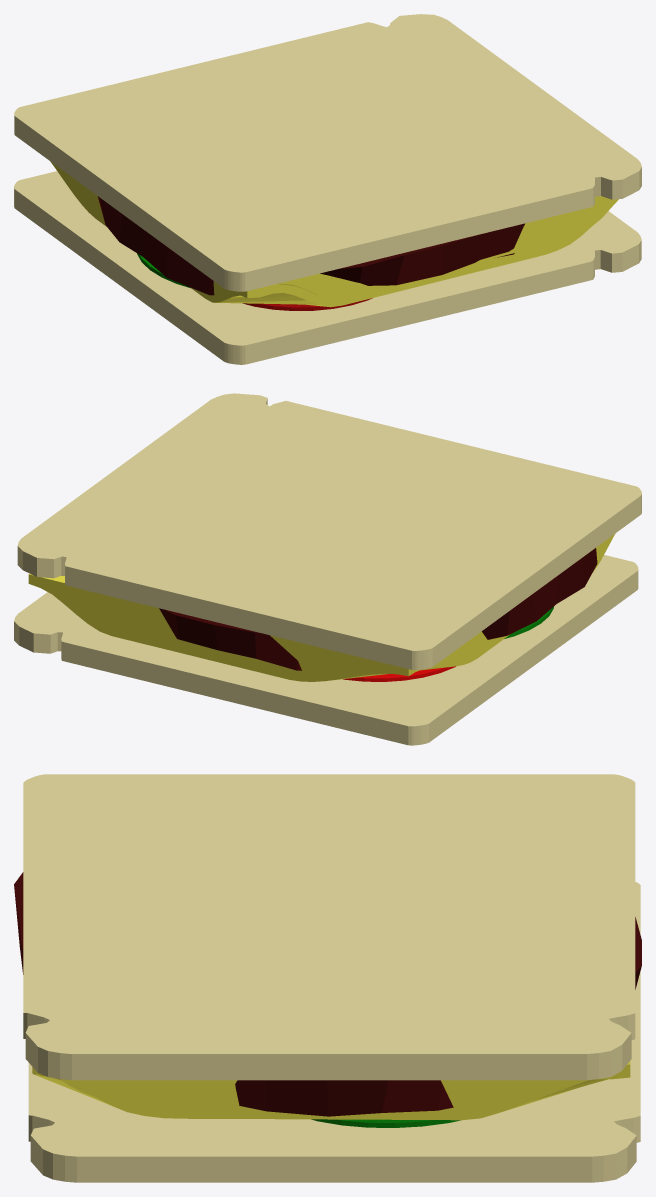
Rendered from Sandwich.fbx.
3 views of the same model, one above another, from view 1: azimuth 30°, elevation 25°; view 2: azimuth 150°, elevation 25°; view 3: azimuth 270°, elevation 25° (orthographic). The views are drawn at different scales.
Parts seen in each view (by area): view 1: Bread 2, Bread 1, Cheese, Cylinder, Cylinder.002; view 2: Bread 2, Bread 1, Cheese, Cylinder, Cylinder.001; view 3: Bread 2, Bread 1, Cheese, Cylinder, Cylinder.005.
Part boxes in pixels (x1,y1,x2,y2): Bread 2: (14,14,641,291); Bread 1: (14,171,641,364); Cheese: (50,161,618,307); Cylinder: (97,196,525,295); Cylinder.002: (242,298,372,310); Bread 2: (17,393,641,669); Bread 1: (14,555,638,745); Cheese: (28,533,615,681); Cylinder: (159,548,597,670); Cylinder.001: (343,666,455,681); Bread 2: (23,774,635,1080); Bread 1: (28,882,640,1182); Cheese: (32,1061,630,1120); Cylinder: (14,872,641,1116); Cylinder.005: (311,1119,460,1127).
Bounding box in the file's own units: 217 × 47.2 × 205.
